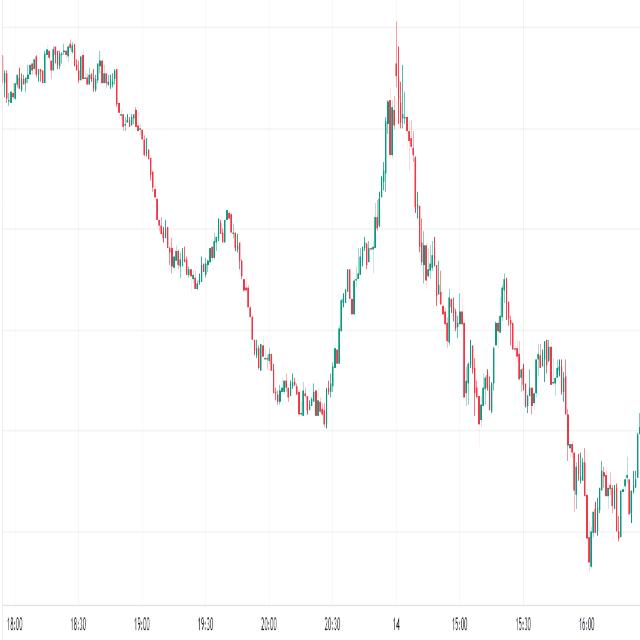Channel-down: (392, 26, 497, 522)
Channel-up: (309, 50, 399, 485)
Double-Bottom: (517, 356, 542, 423)
Head-Shoulders: (316, 26, 489, 447)
